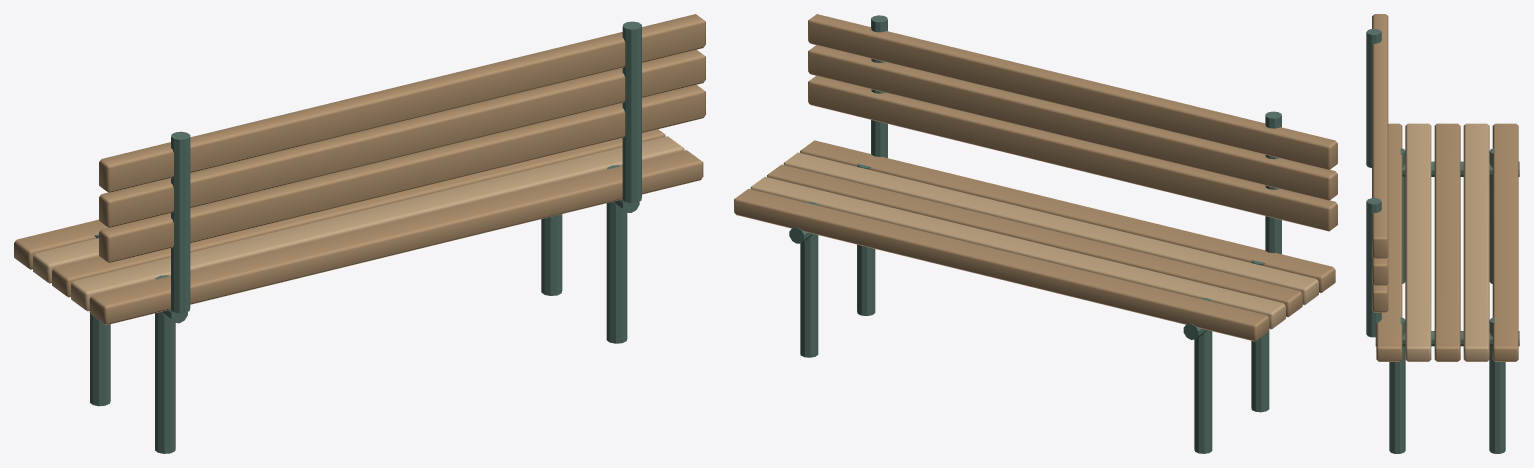
Rendered from bench.glb.
3 renders of one model, left to right at view 1: azimuth 30°, elevation 25°; view 2: azimuth 150°, elevation 25°; view 3: azimuth 270°, elevation 25°, orthographic. The views are drawn at different scales.
Visible parts, largest first — view 1: back.slat.2, back.slat.0, back.slat.1, seat.slat.0, seat.slat.1, seat.slat.2, frame.back, frame.back.001, frame.leg.002, frame.leg, seat.slat.4, frame.leg.001 (+2 smaller); view 2: back.slat.2, back.slat.0, back.slat.1, seat.slat.4, seat.slat.2, seat.slat.1, seat.slat.3, seat.slat.0, frame.leg.003, frame.leg.001, frame.leg, frame.leg.002 (+2 smaller); view 3: seat.slat.1, seat.slat.3, seat.slat.2, seat.slat.4, seat.slat.0, back.slat.2, frame.leg.002, frame.leg.003, frame.back.001, frame.back, frame.leg, frame.leg.001 (+4 smaller).
Part boxes in pixels (x1,y1,x2,y2): back.slat.2: (99, 14, 705, 192); back.slat.0: (99, 85, 705, 263); back.slat.1: (99, 49, 705, 227); seat.slat.0: (89, 150, 703, 325); seat.slat.1: (71, 136, 684, 311); seat.slat.2: (52, 129, 665, 297); frame.back: (171, 131, 190, 313); frame.back.001: (622, 21, 641, 203); frame.leg.002: (606, 165, 627, 343); frame.leg: (155, 275, 175, 453); seat.slat.4: (14, 219, 107, 269); frame.leg.001: (90, 234, 110, 406); back.slat.2: (808, 14, 1337, 170); back.slat.0: (808, 76, 1337, 231); back.slat.1: (808, 45, 1337, 200); seat.slat.4: (734, 189, 1269, 341); seat.slat.2: (767, 164, 1302, 317); seat.slat.1: (783, 152, 1318, 305); seat.slat.3: (750, 176, 1285, 329); seat.slat.0: (800, 140, 1335, 292); frame.leg.003: (800, 201, 818, 357); frame.leg.001: (1194, 298, 1212, 453); frame.leg: (1251, 260, 1269, 412); frame.leg.002: (857, 163, 875, 315); seat.slat.1: (1405, 123, 1431, 361); seat.slat.3: (1463, 123, 1489, 361); seat.slat.2: (1434, 123, 1460, 361); seat.slat.4: (1492, 123, 1518, 361); seat.slat.0: (1376, 123, 1402, 361); back.slat.2: (1372, 14, 1388, 258); frame.leg.002: (1389, 317, 1405, 453); frame.leg.003: (1489, 317, 1505, 453); frame.back.001: (1366, 198, 1381, 337); frame.back: (1366, 29, 1381, 167); frame.leg: (1400, 148, 1405, 283); frame.leg.001: (1489, 148, 1494, 283).
Size of the model in its own units: 1.7 by 0.88 by 0.489.
